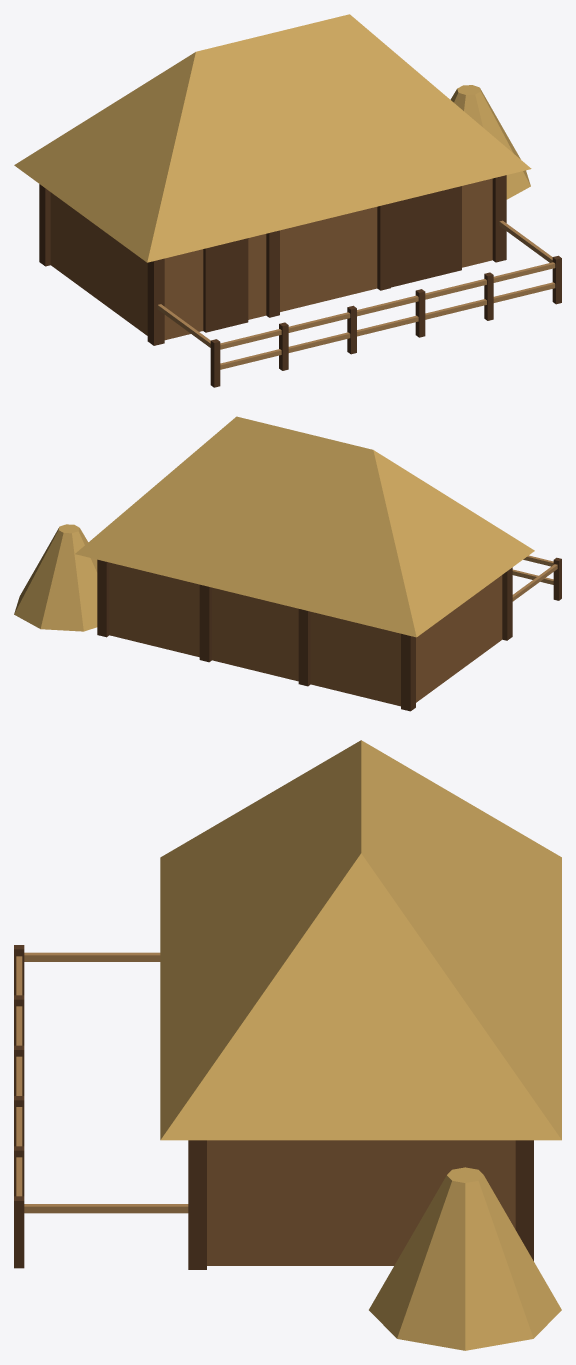
File: settlement_longhouse.glb
The picture shows the model from 3 angles, top to bottom: view 1: azimuth 30°, elevation 25°; view 2: azimuth 150°, elevation 25°; view 3: azimuth 270°, elevation 25°; orthographic projection. The views are drawn at different scales.
Visible parts, largest first — view 1: settlement_longhouse; view 2: settlement_longhouse; view 3: settlement_longhouse.
Part boxes in pixels (<box>): settlement_longhouse: <box>14,14,561,387</box>; settlement_longhouse: <box>14,416,561,711</box>; settlement_longhouse: <box>14,740,561,1350</box>.
Bounding box in the file's own units: 11.2 × 5.1 × 7.37.
